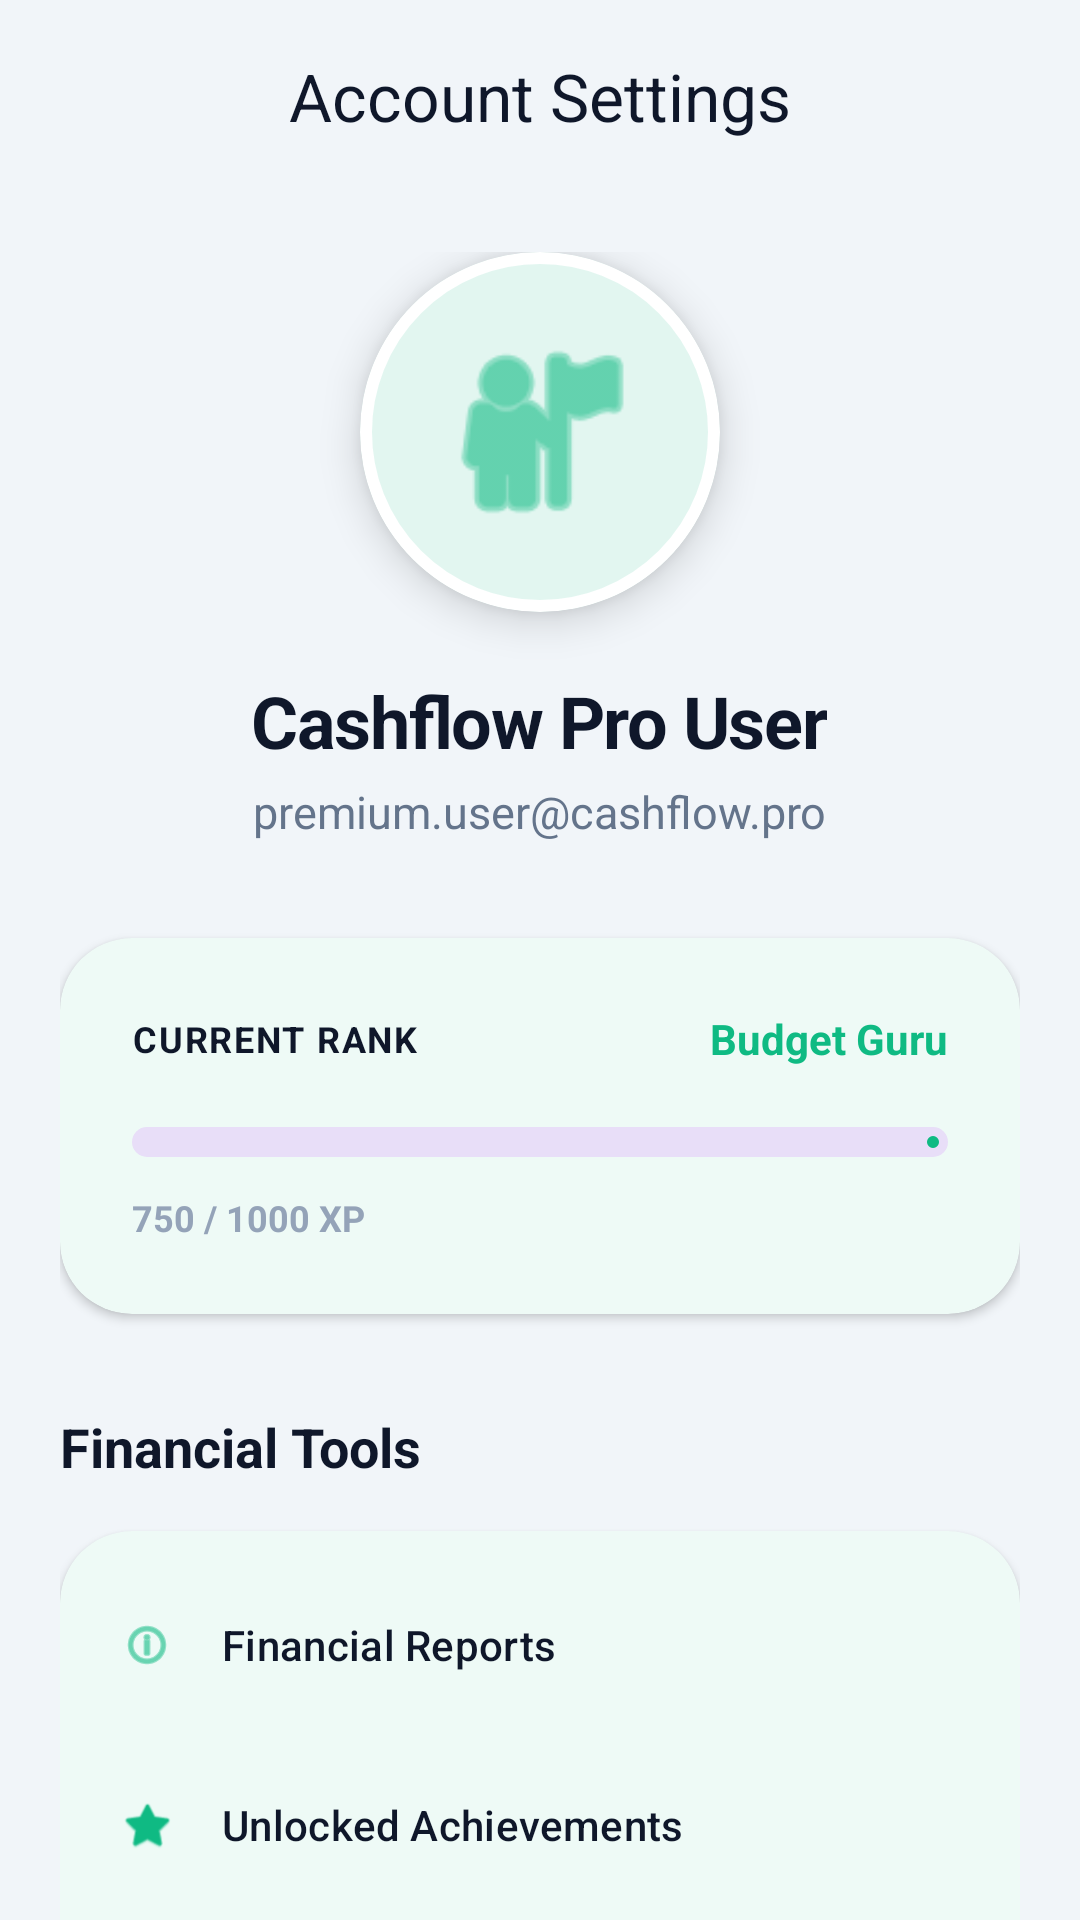

Icon bounding boxes for this 1080 × 1920 phone screenshot, format (x1, y1, x2, y2):
Profile Image: (360, 252, 720, 612)
